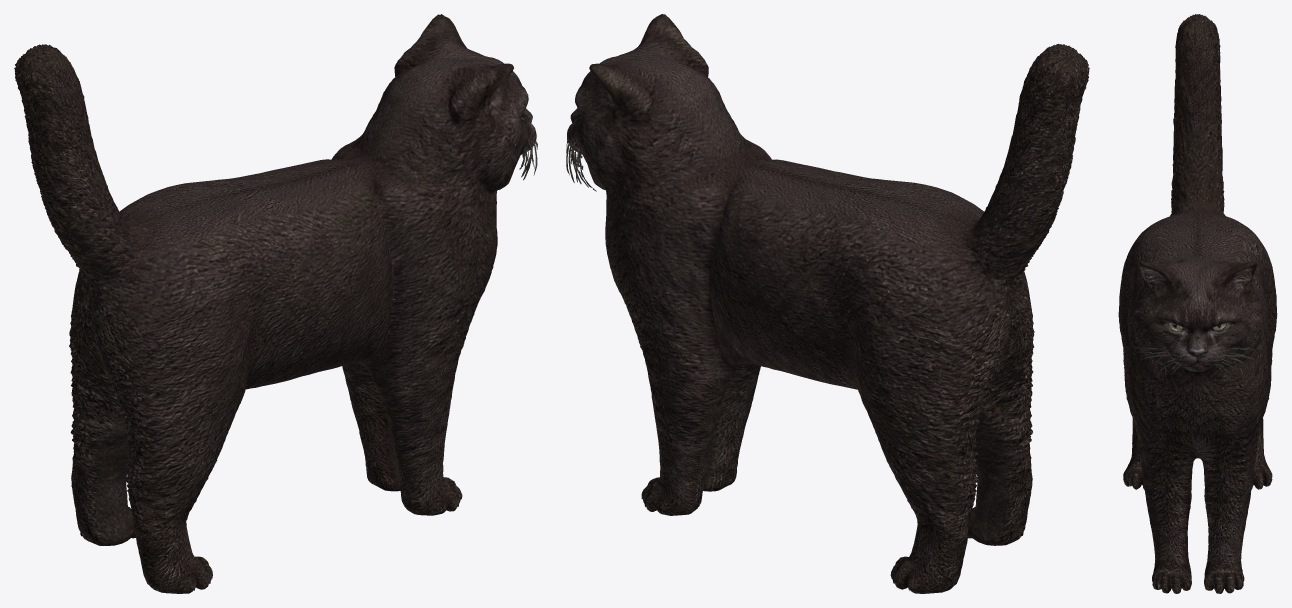
Rendered from SCROLL.glb.
The picture shows the model from 3 angles, left to right: view 1: azimuth 30°, elevation 25°; view 2: azimuth 150°, elevation 25°; view 3: azimuth 270°, elevation 25°; orthographic projection. The views are drawn at different scales.
Visible parts, largest first — view 1: tripo_node_8795ee2f-9e4d-4005-8f43-bf47d77ad2cb; view 2: tripo_node_8795ee2f-9e4d-4005-8f43-bf47d77ad2cb; view 3: tripo_node_8795ee2f-9e4d-4005-8f43-bf47d77ad2cb.
Boxes of the visible parts, left/top/right/bottom form: tripo_node_8795ee2f-9e4d-4005-8f43-bf47d77ad2cb: left=14, top=14, right=537, bottom=593; tripo_node_8795ee2f-9e4d-4005-8f43-bf47d77ad2cb: left=566, top=14, right=1089, bottom=593; tripo_node_8795ee2f-9e4d-4005-8f43-bf47d77ad2cb: left=1118, top=14, right=1277, bottom=593.
Bounding box in the file's own units: 0.9978 × 0.9998 × 0.3385.
1 material, 1 textured.
